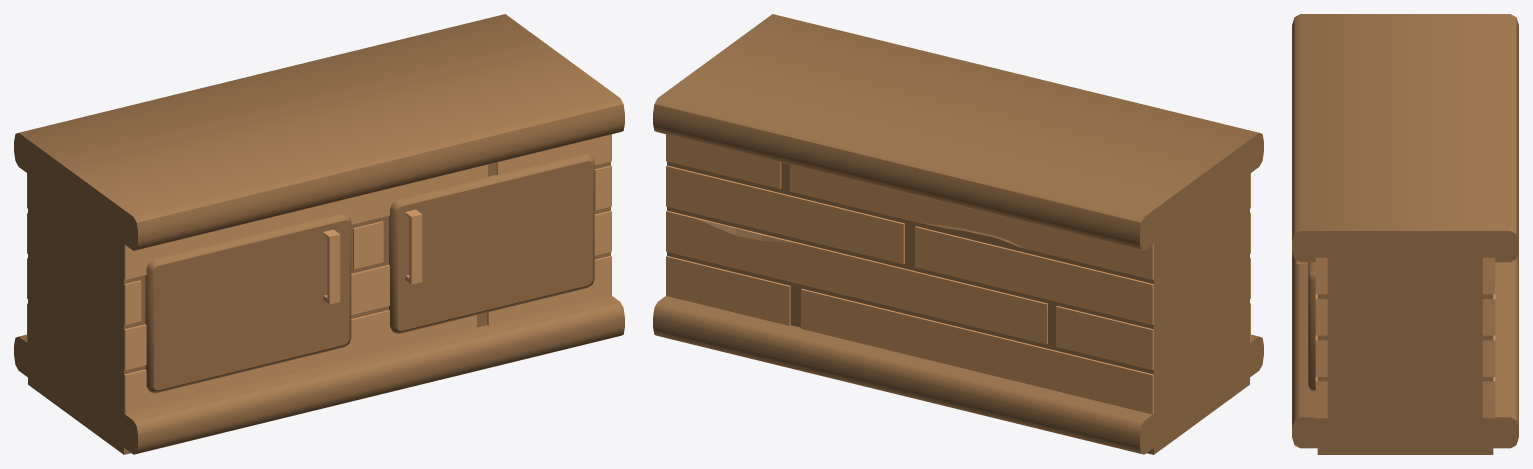
File: Counter Doors.glb
3 renders of one model, left to right at view 1: azimuth 30°, elevation 25°; view 2: azimuth 150°, elevation 25°; view 3: azimuth 270°, elevation 25°, orthographic. The views are drawn at different scales.
Parts seen in each view (by area): view 1: Environment_Counter_Doors; view 2: Environment_Counter_Doors; view 3: Environment_Counter_Doors.
Boxes of the visible parts, x1,y1,x2,y2 form: Environment_Counter_Doors: (14,14,624,454); Environment_Counter_Doors: (653,14,1263,454); Environment_Counter_Doors: (1292,14,1518,454).
Bounding box in the file's own units: 4 × 1.92 × 1.77.
1 material, 1 textured.
